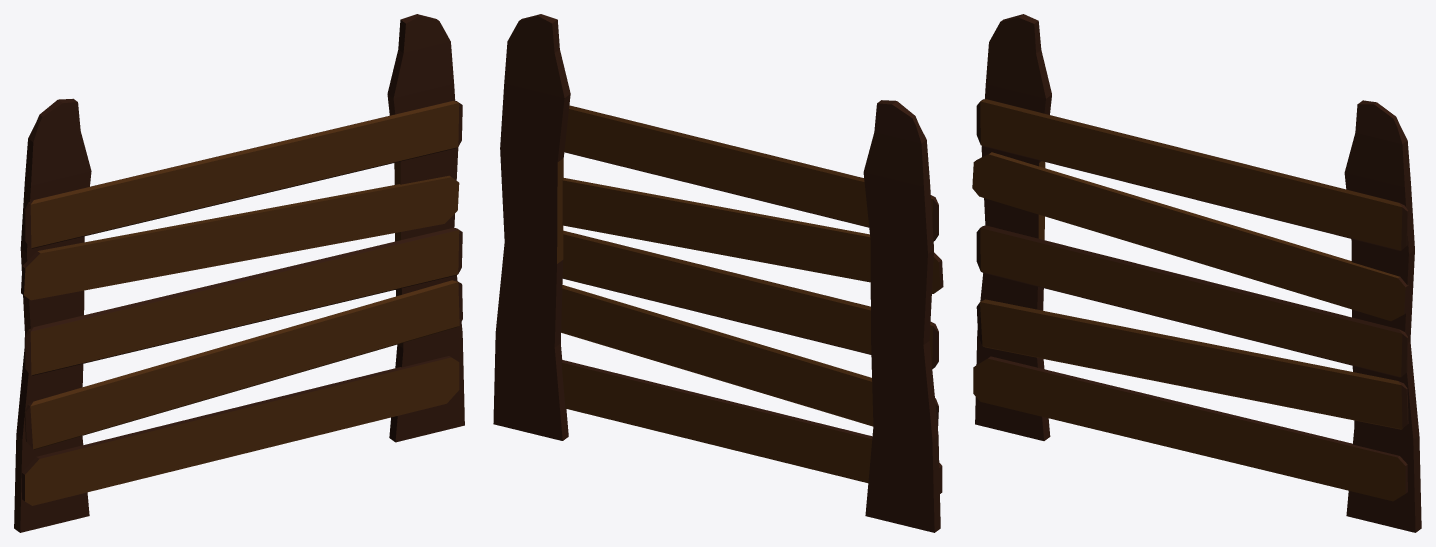
Rendered from fence1.fbx.
The picture shows the model from 3 angles, left to right: view 1: azimuth 30°, elevation 25°; view 2: azimuth 150°, elevation 25°; view 3: azimuth 330°, elevation 25°; orthographic projection.
Visible parts, largest first — view 1: Plane.012; view 2: Plane.012; view 3: Plane.012.
Part boxes in pixels (x1=…): Plane.012: x1=14, y1=14, x2=464, y2=532; Plane.012: x1=493, y1=14, x2=943, y2=532; Plane.012: x1=972, y1=14, x2=1421, y2=532.
Bounding box in the file's own units: 2.5 × 2.26 × 0.109.
